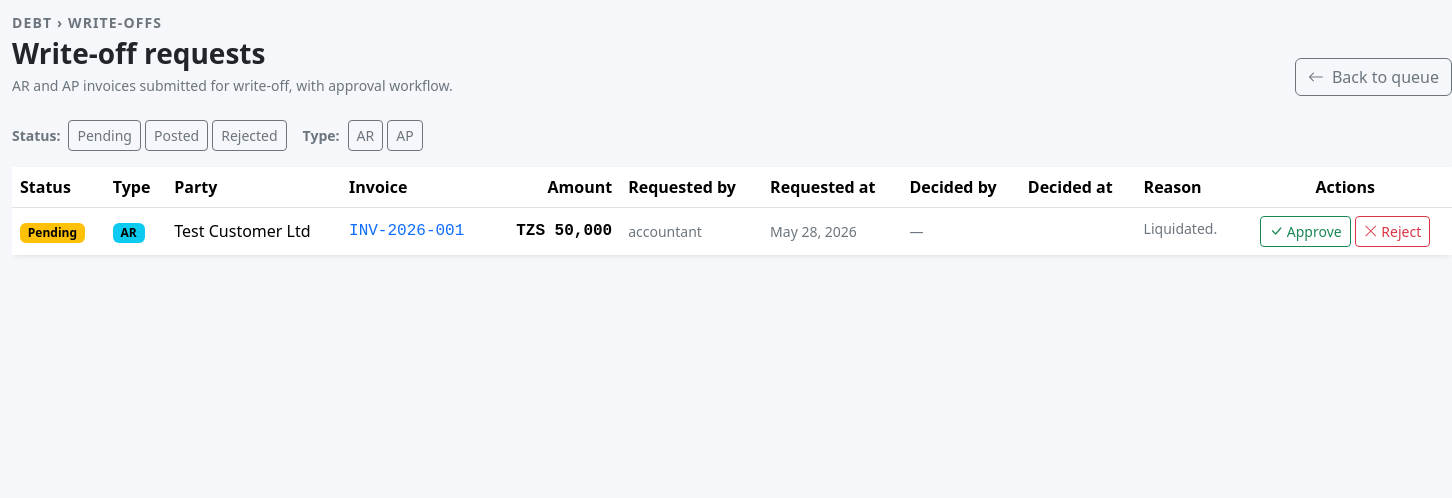
Test case: DebtWriteOffsComponent › row expansion › toggles detail panel on row click
Click the button with test id "write-off-row". click: (732, 231)
box: x1=12 y1=207 x2=1451 y2=255
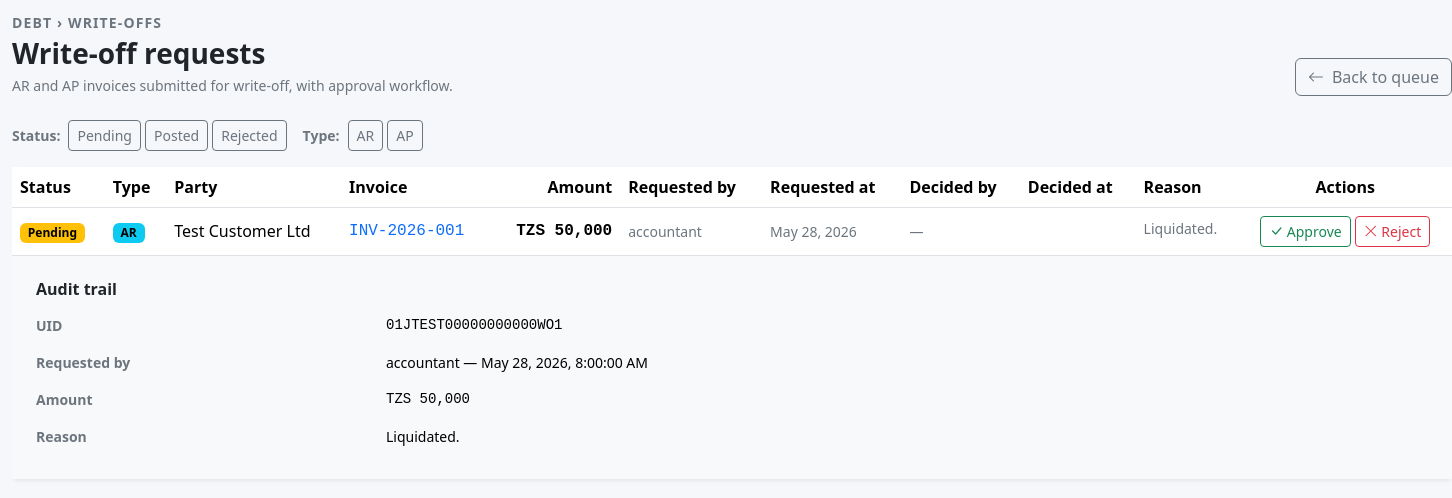
Now the row with test id "write-off-detail" is shown, box x1=12 y1=255 x2=1451 y2=479
Click the button with test id "write-off-row". click: (732, 231)
box: x1=12 y1=207 x2=1451 y2=255
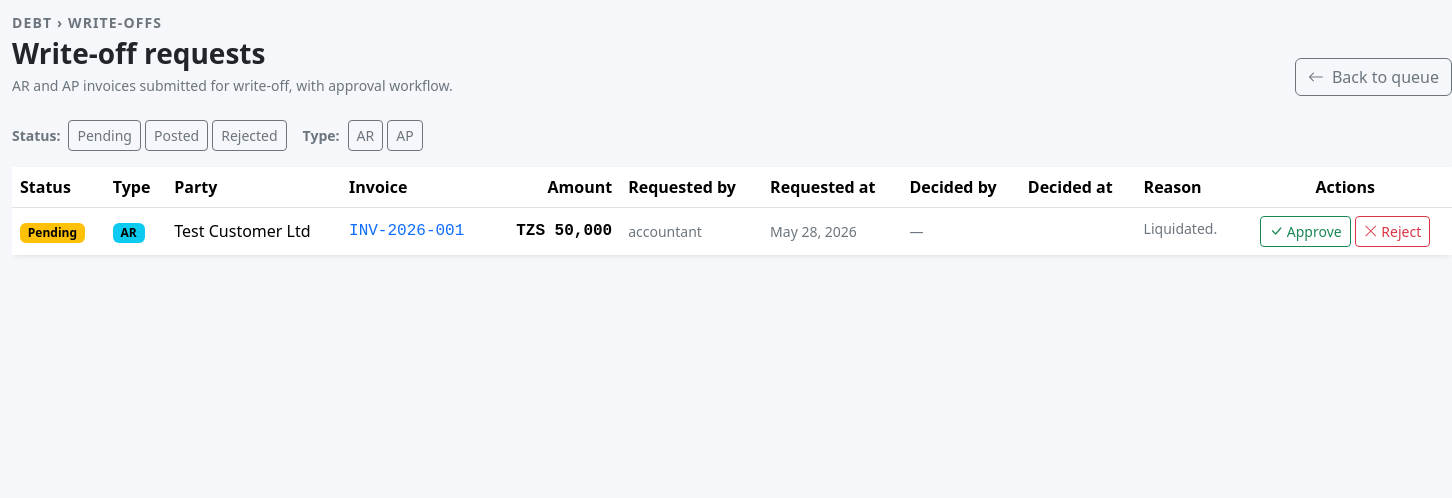
Now the row with test id "write-off-detail" is gone
